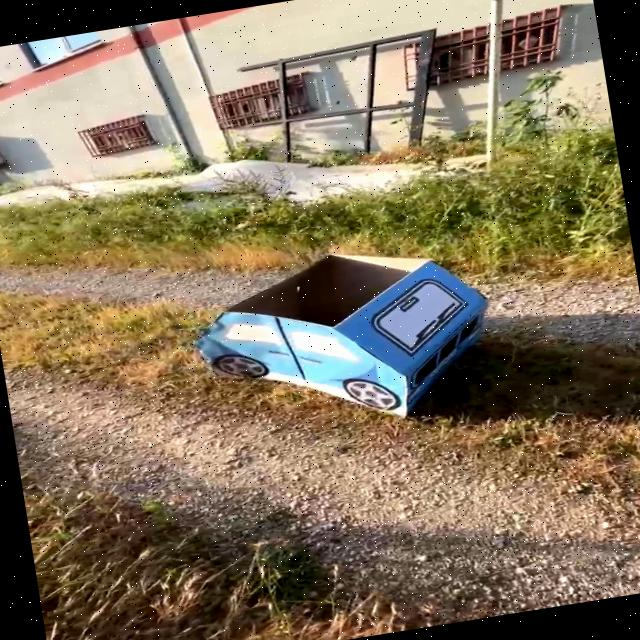blue_car: (162, 210, 549, 471)
